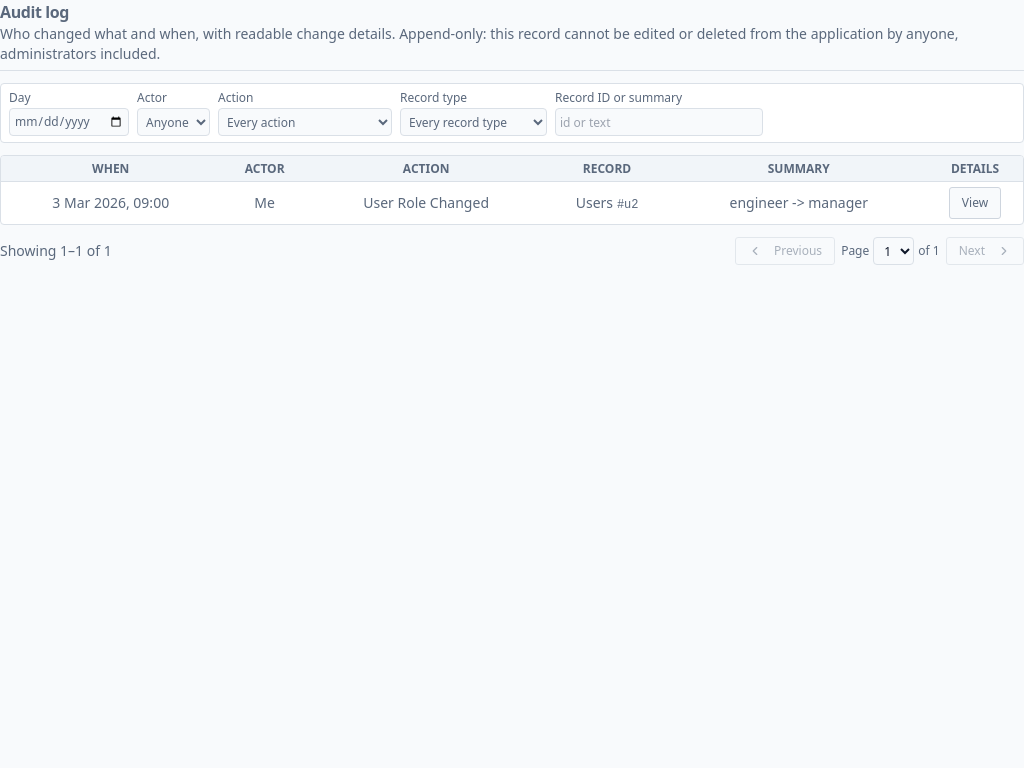
Test: the audit log › shows the recorded value when the event created a record
Click the button with aria-label "show change details": coordinates (975, 203) [949,187,1001,219]
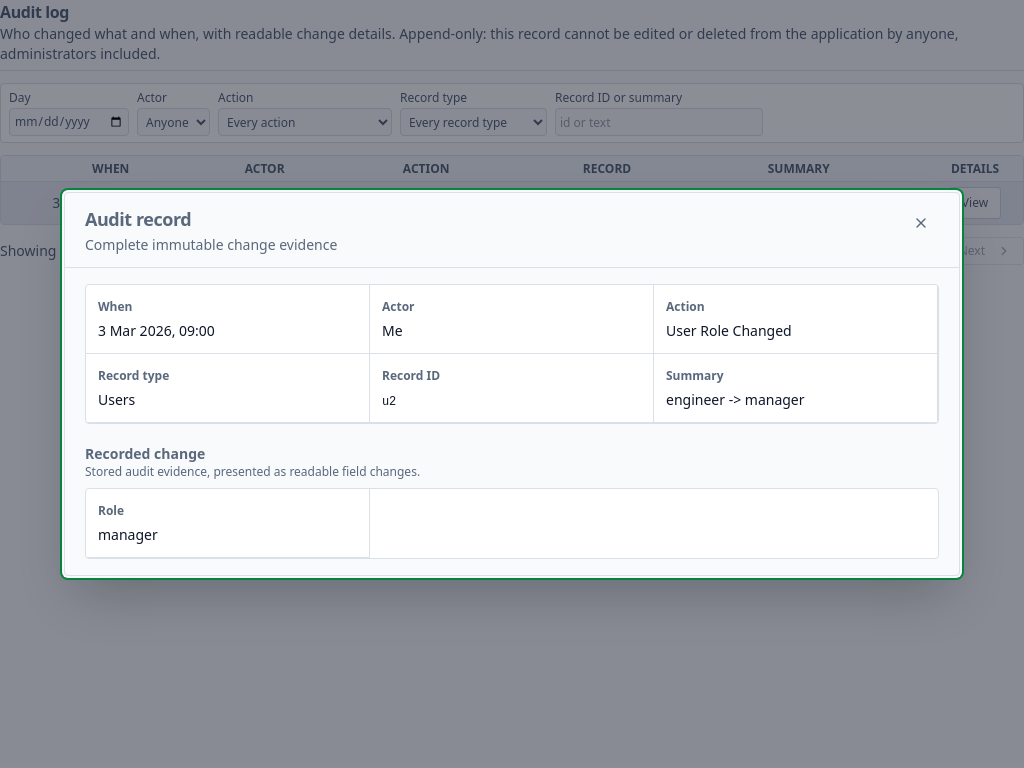
Result: the text "manager" is shown at [98,525,158,544]
